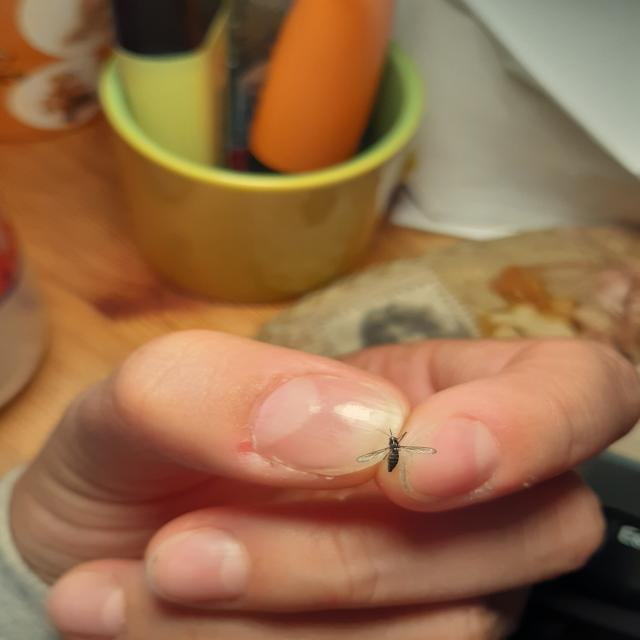albopictus: (354, 418, 442, 478)
